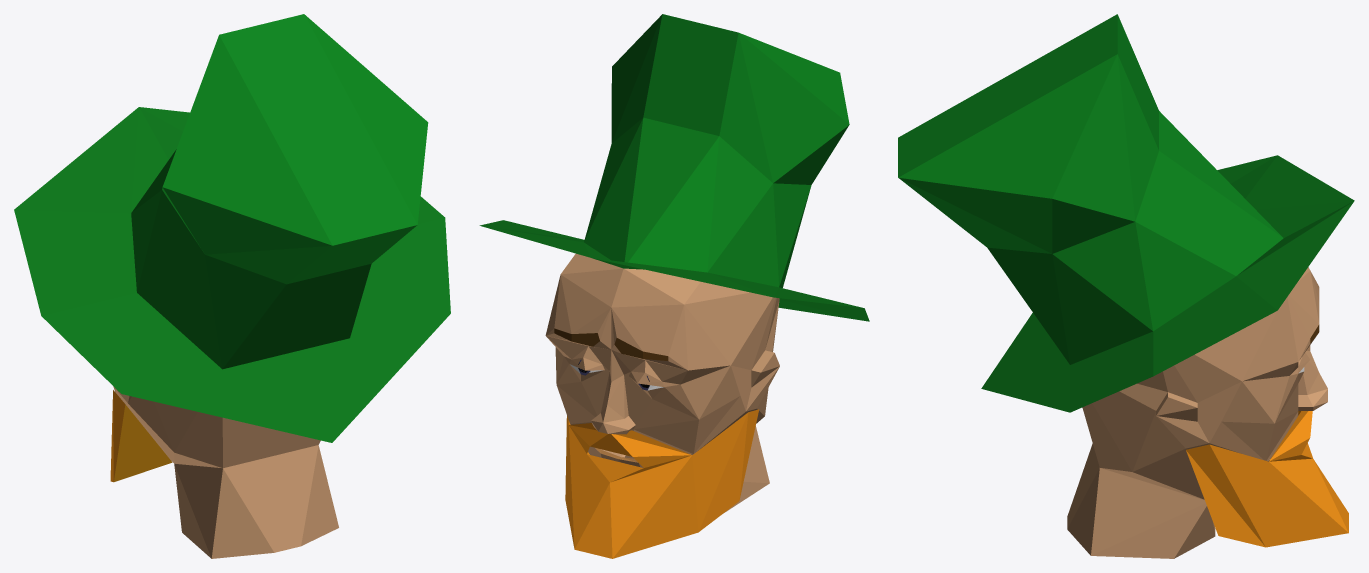
The model's file is npc_chat_shamus_0.obj.
The picture shows the model from 3 angles, left to right: view 1: azimuth 30°, elevation 25°; view 2: azimuth 150°, elevation 25°; view 3: azimuth 270°, elevation 25°; orthographic projection. The views are drawn at different scales.
Bounding box in the file's own units: 1.19 × 1.45 × 1.2.
